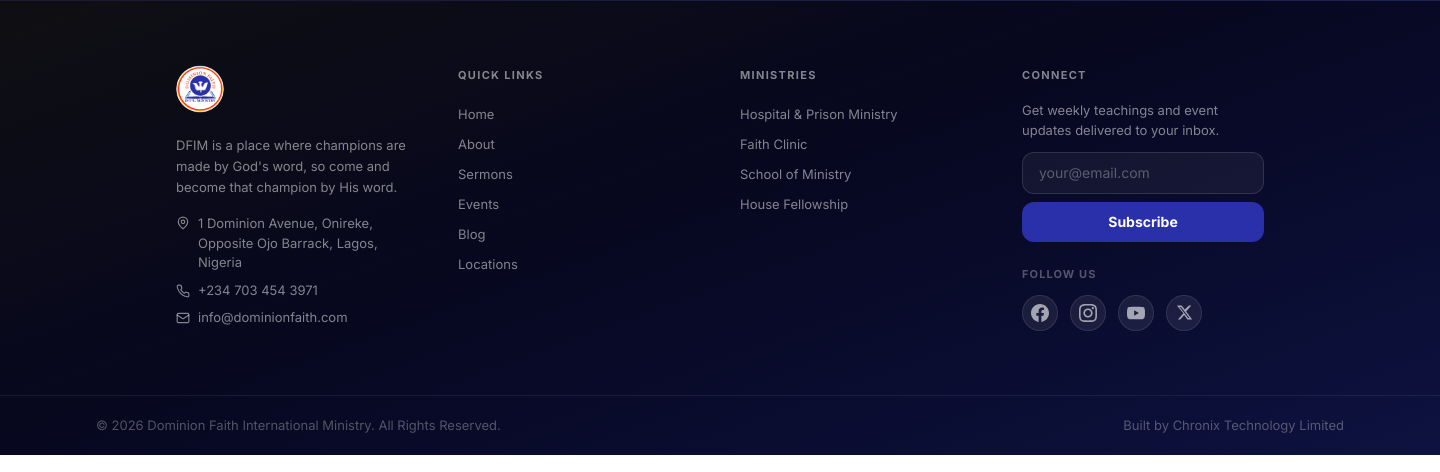
Test: Footer › shows success message after subscribing
Type "test@example.com" into the field named "email address for newsletter" at (1143, 173), box [1022,152,1264,194]
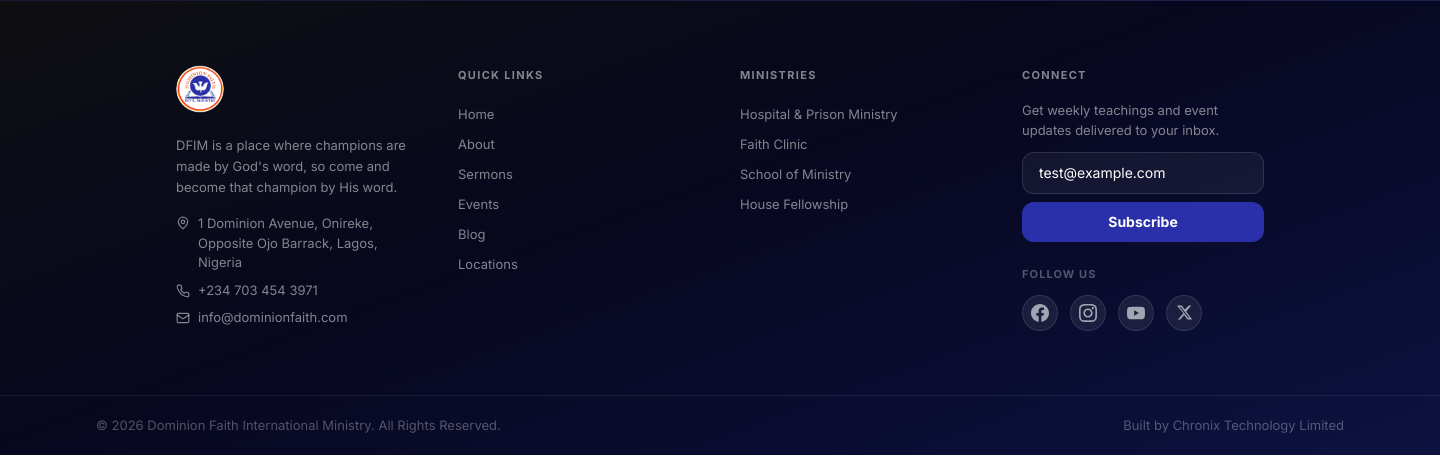
Click the button "Subscribe" at (1143, 222), box [1022,202,1264,242]
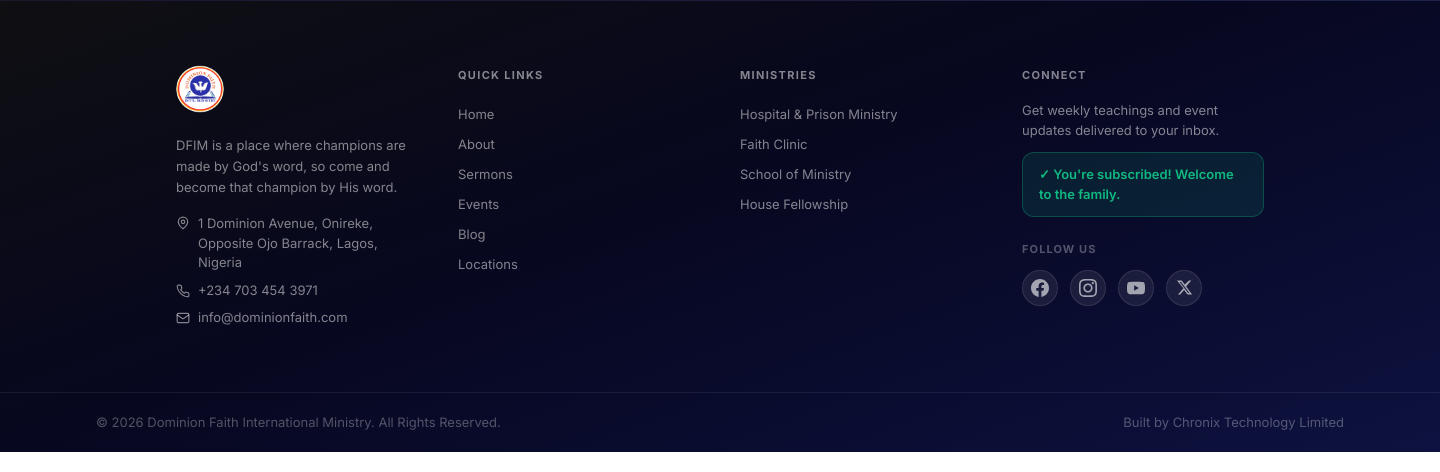
Expected: the text "✓ You're subscribed! Welcome to the family." is shown, [1022,152,1264,217]
